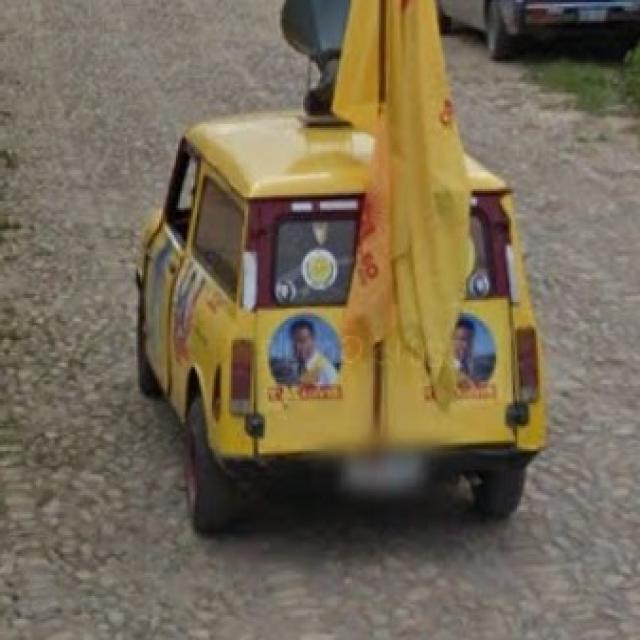car: (127, 75, 548, 547), (437, 0, 640, 61)
